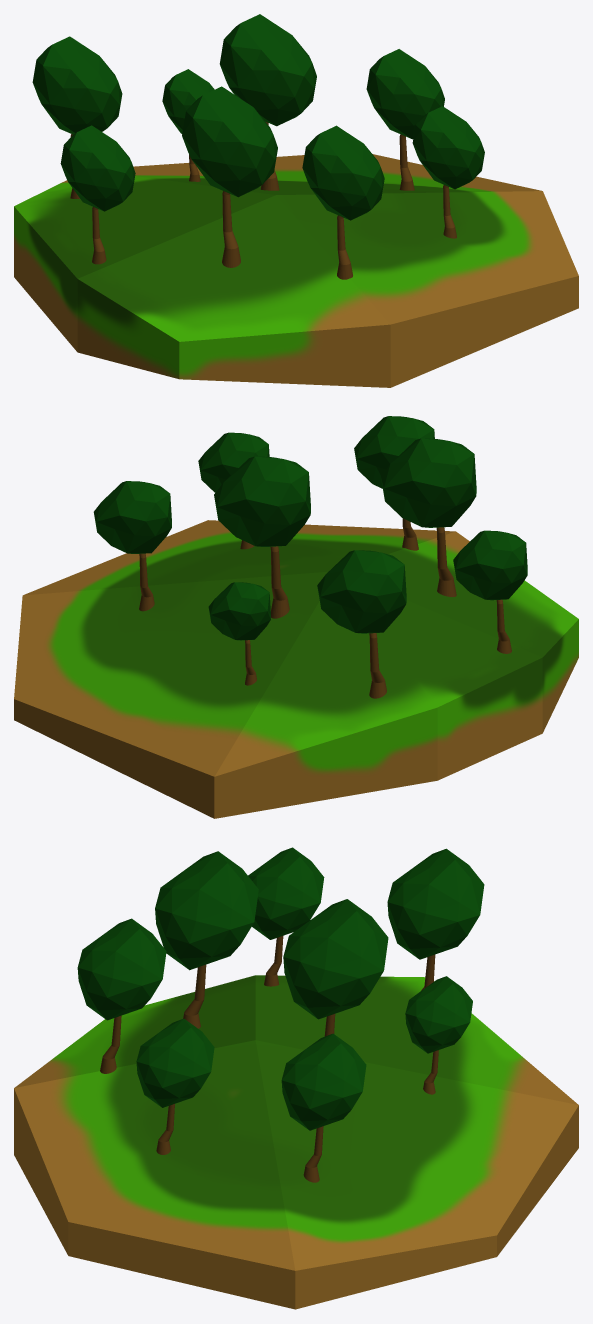
Rendered from Island.fbx.
3 views of the same model, one above another, from view 1: azimuth 30°, elevation 25°; view 2: azimuth 150°, elevation 25°; view 3: azimuth 270°, elevation 25° (orthographic). The views are drawn at different scales.
Visible parts, largest first — view 1: Cube, Cylinder.001, Cylinder.005, Cylinder.007, Cylinder.002, Cylinder.006, Cylinder.004, Cylinder.003, Cylinder.008; view 2: Cube, Cylinder.005, Cylinder.001, Cylinder.007, Cylinder.004, Cylinder.006, Cylinder.002, Cylinder.008, Cylinder.003; view 3: Cube, Cylinder.001, Cylinder.005, Cylinder.007, Cylinder.002, Cylinder.004, Cylinder.003, Cylinder.006, Cylinder.008.
Boxes of the visible parts, x1,y1,x2,y2 form: Cube: (14,154,578,387); Cylinder.001: (182,86,277,267); Cylinder.005: (219,14,316,190); Cylinder.007: (32,36,122,198); Cylinder.002: (302,125,384,279); Cylinder.006: (60,125,135,264); Cylinder.004: (366,49,444,190); Cylinder.003: (412,106,484,238); Cylinder.008: (162,69,214,181); Cube: (14,520,578,818); Cylinder.005: (214,456,310,618); Cylinder.001: (380,438,476,596); Cylinder.007: (317,550,406,698); Cylinder.004: (93,481,171,611); Cylinder.006: (453,530,527,653); Cylinder.002: (354,416,434,550); Cylinder.008: (208,582,270,685); Cylinder.003: (198,432,269,549); Cube: (14,975,578,1309); Cylinder.001: (155,851,258,1028); Cylinder.005: (283,899,388,1036); Cylinder.007: (387,848,484,990); Cylinder.002: (77,918,166,1073); Cylinder.004: (281,1033,366,1182); Cylinder.003: (136,1018,214,1154); Cylinder.006: (248,847,324,986); Cylinder.008: (405,976,472,1094).
Size of the model in its own units: 234 by 124 by 244.
